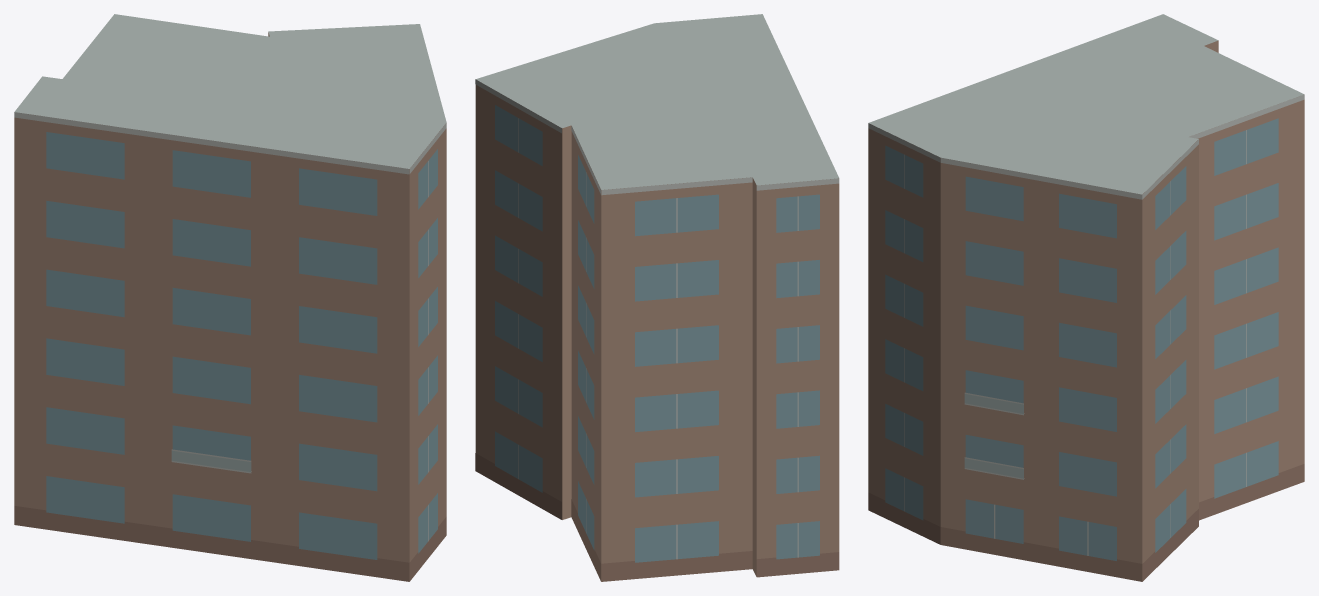
File: survey-upis-32989934.glb
3 renders of one model, left to right at view 1: azimuth 30°, elevation 25°; view 2: azimuth 150°, elevation 25°; view 3: azimuth 270°, elevation 25°, orthographic. The views are drawn at different scales.
Parts seen in each view (by area): view 1: survey-upis-32989934.tmp; view 2: survey-upis-32989934.tmp; view 3: survey-upis-32989934.tmp.
Part boxes in pixels (x1,y1,x2,y2): survey-upis-32989934.tmp: (14,14,446,581); survey-upis-32989934.tmp: (475,14,839,581); survey-upis-32989934.tmp: (868,14,1304,581).
Size of the model in its own units: 18.31 by 18.3 by 18.69.
